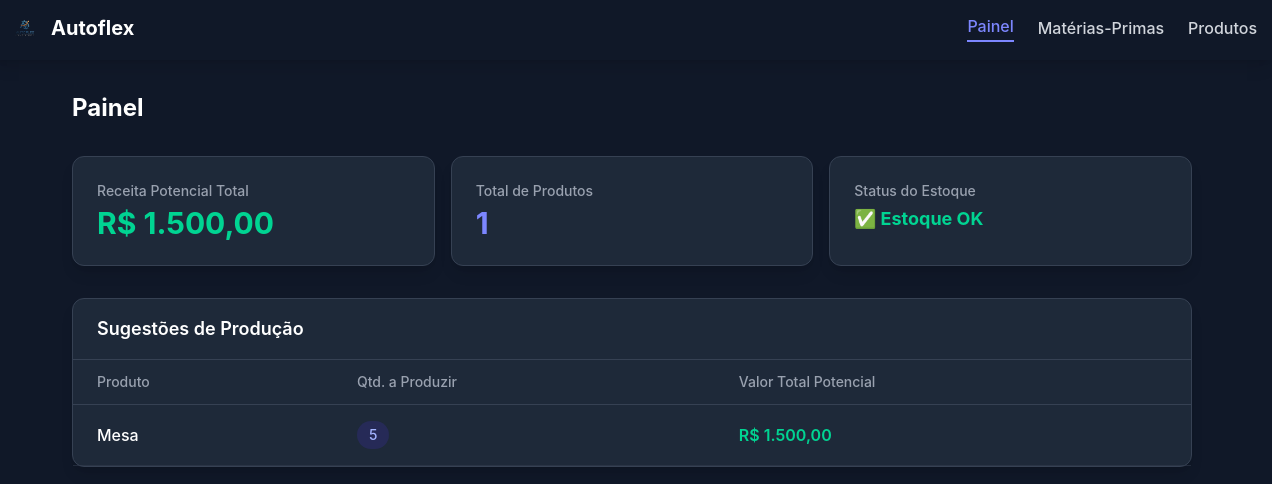
Test: Inventory Management App E2E › should navigate to Products page and see the list
Click the link "Produtos" at (1223, 28), box [1188, 16, 1257, 40]
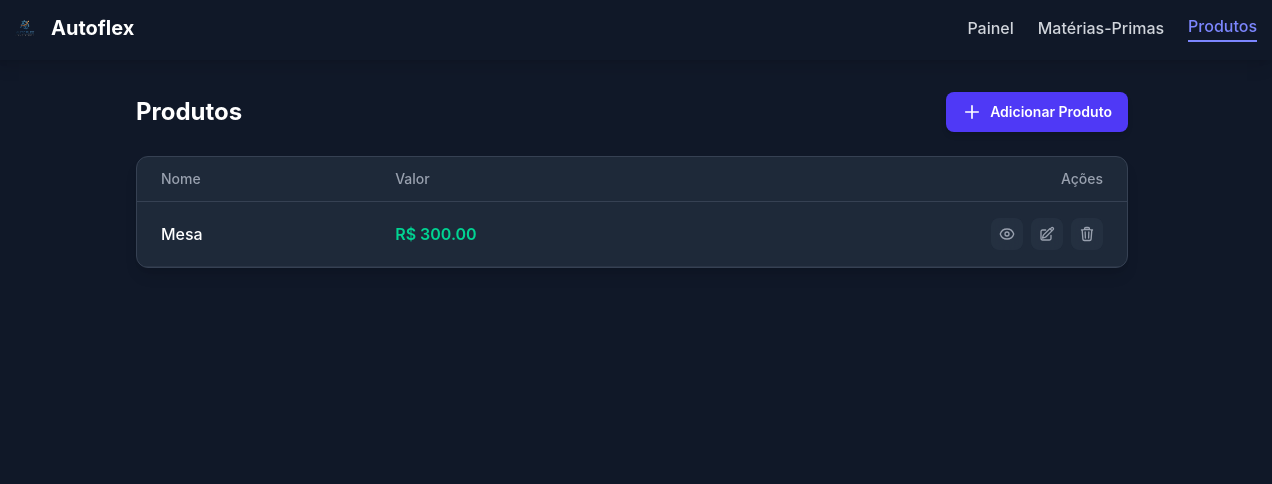
Expected: the text "Mesa" is shown, [137, 202, 371, 266]
Now the text "R$" is shown, box [395, 224, 420, 244]
